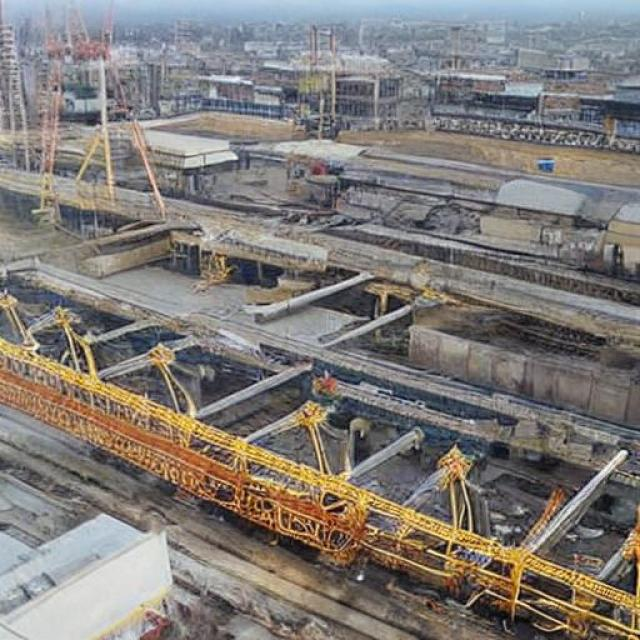crane: (232, 129, 349, 222), (113, 159, 223, 228), (549, 100, 589, 130), (88, 193, 107, 233), (395, 136, 414, 158), (435, 127, 451, 152)
